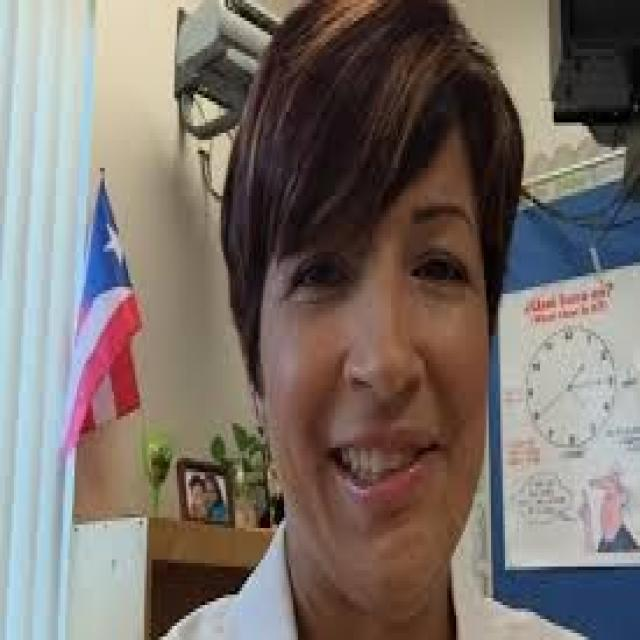stroke_face: (245, 0, 510, 617)
